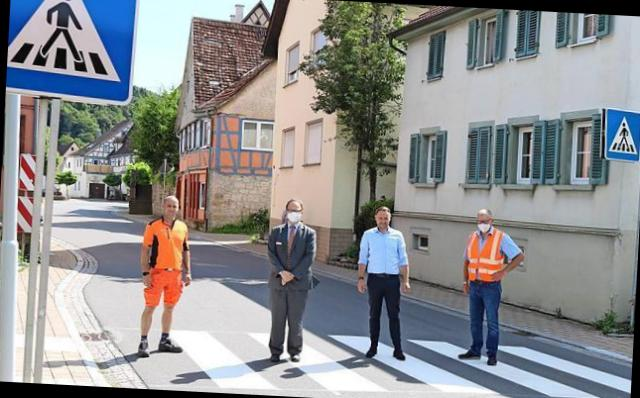crosswalk-sign: (6, 1, 140, 107), (601, 112, 640, 162)
